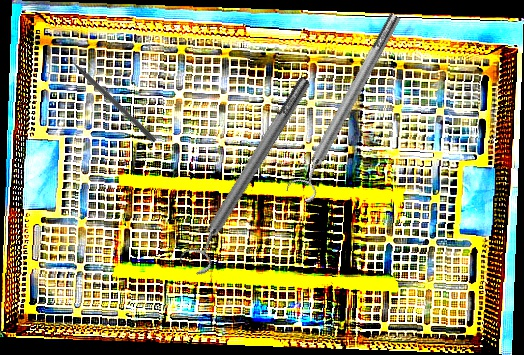Fixation Ring: (174, 70, 323, 280), (282, 8, 412, 205)
Pusher: (58, 47, 159, 144)
